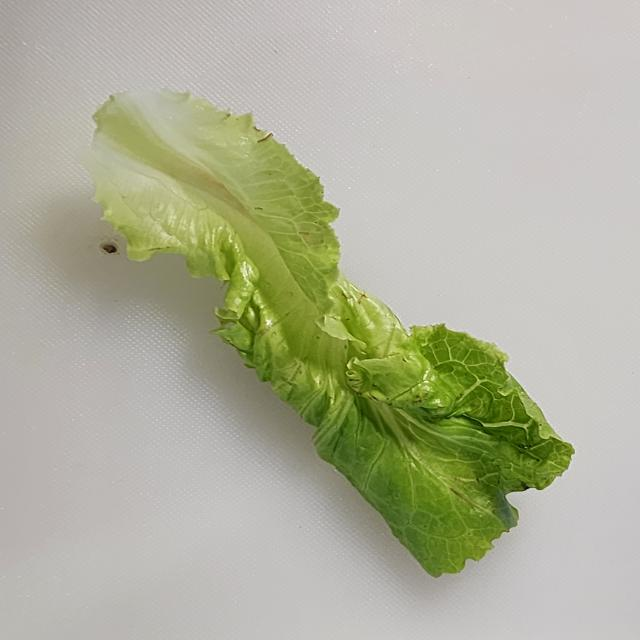lettuce: (77, 87, 576, 578)
